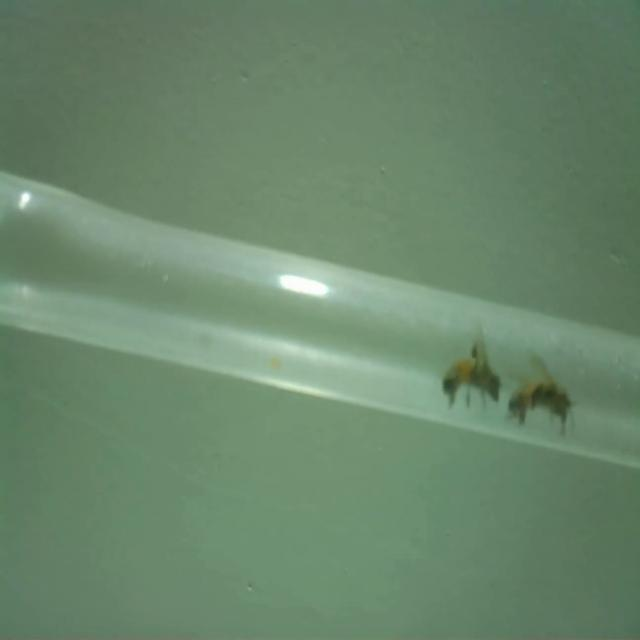Honeybee-Detection: (508, 350, 576, 435), (442, 325, 501, 408)
